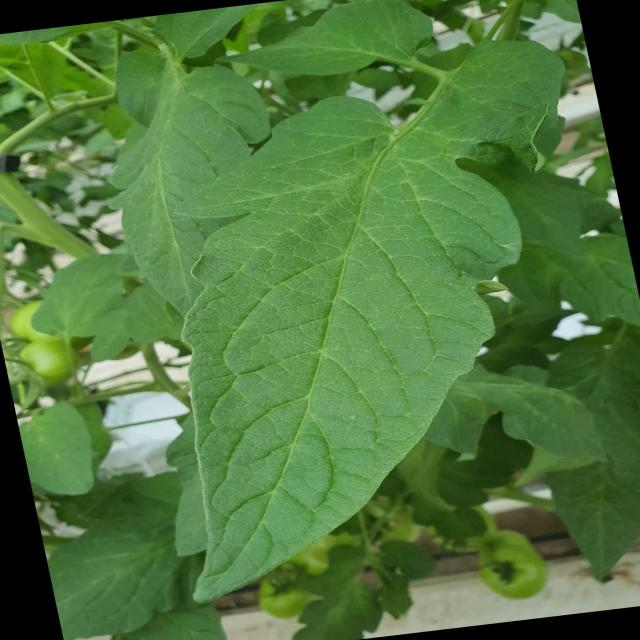Healthy Leaf: (131, 70, 519, 621)
